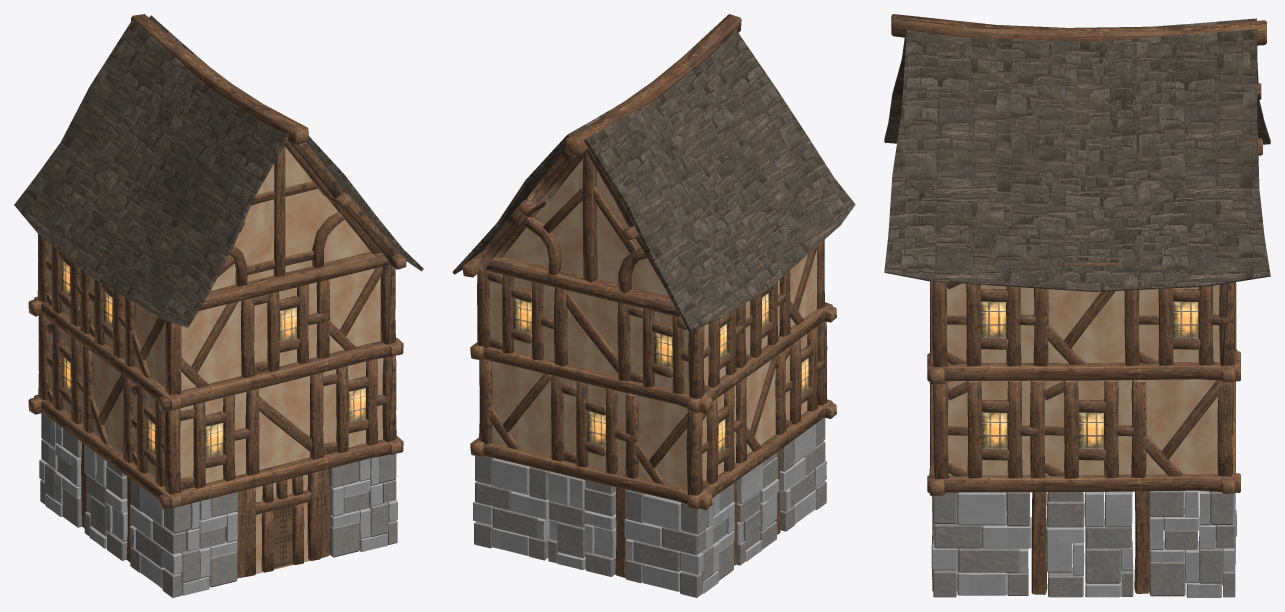
The model's file is House 2.fbx.
3 views of the same model, side by side, from view 1: azimuth 30°, elevation 25°; view 2: azimuth 150°, elevation 25°; view 3: azimuth 270°, elevation 25° (orthographic). The views are drawn at different scales.
Visible parts, largest first — view 1: House 2; view 2: House 2; view 3: House 2.
Boxes of the visible parts, x1,y1,x2,y2 form: House 2: [14, 14, 423, 597]; House 2: [452, 14, 855, 597]; House 2: [884, 14, 1270, 597].
Size of the model in its own units: 6.86 by 11.83 by 7.99.
